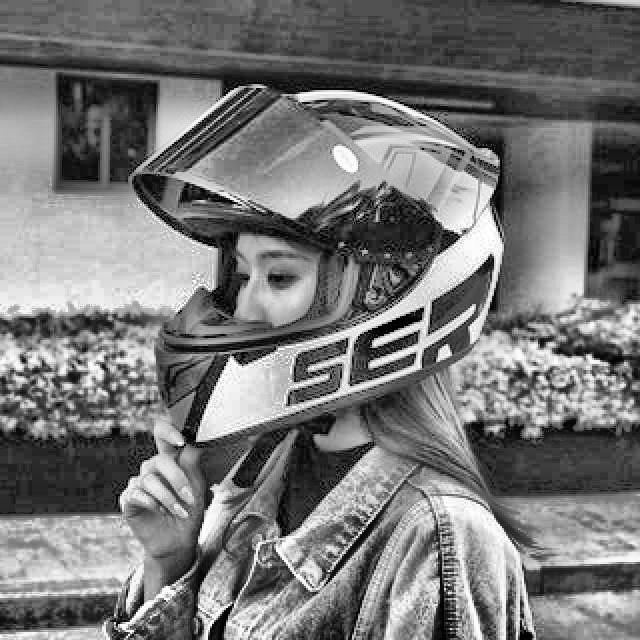Helmet: (120, 72, 512, 460)
